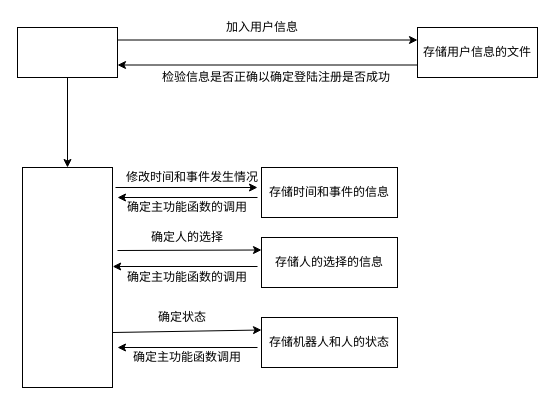
The diagram is 555 pixels wide and 405 high, and some of its shapes have lost their labels. Each missing label, with the box of its shape:
主功能模块: (22, 166, 112, 388)
登录注册: (16, 26, 118, 78)
